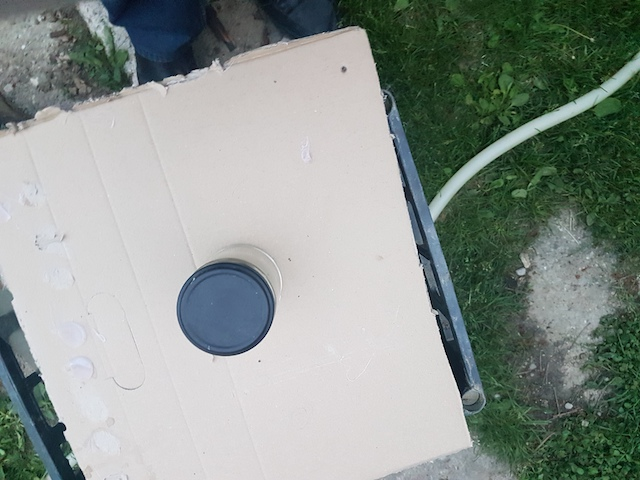recipient: (178, 264, 278, 358)
